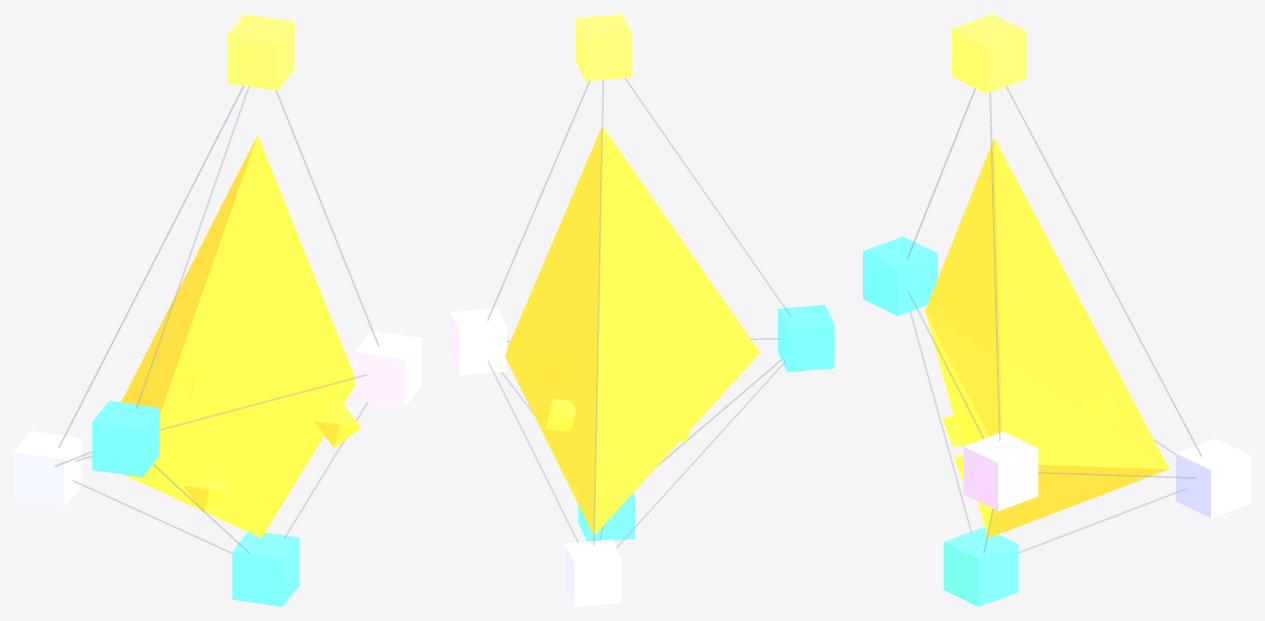
File: cap_em_core_matrix.glb
3 renders of one model, left to right at view 1: azimuth 30°, elevation 25°; view 2: azimuth 150°, elevation 25°; view 3: azimuth 270°, elevation 25°, orthographic. The views are drawn at different scales.
Parts seen in each view (by area): view 1: object 1, node-valuation, node-runway, node-esop, node-founder, node-capital, object 16, object 17, object 9, object 8, object 7; view 2: object 1, node-founder, node-esop, node-runway, node-valuation, node-capital, object 18, object 9, object 8; view 3: object 1, node-founder, node-valuation, node-esop, node-capital, node-runway, object 18, object 9, object 7.
Part boxes in pixels (bbox=[...]): object 1: bbox=[91, 135, 354, 537]; node-valuation: bbox=[354, 330, 421, 407]; node-runway: bbox=[92, 400, 159, 477]; node-esop: bbox=[14, 431, 81, 507]; node-founder: bbox=[227, 14, 294, 90]; node-capital: bbox=[232, 532, 299, 606]; object 16: bbox=[313, 400, 360, 447]; object 17: bbox=[183, 466, 230, 512]; object 9: bbox=[58, 86, 244, 447]; object 8: bbox=[135, 87, 249, 408]; object 7: bbox=[275, 90, 379, 346]; object 1: bbox=[505, 126, 760, 535]; node-founder: bbox=[575, 14, 632, 81]; node-esop: bbox=[565, 539, 621, 606]; node-runway: bbox=[778, 304, 834, 372]; node-valuation: bbox=[450, 308, 506, 375]; node-capital: bbox=[578, 493, 634, 541]; object 18: bbox=[546, 398, 576, 431]; object 9: bbox=[593, 80, 603, 545]; object 8: bbox=[625, 78, 790, 315]; object 1: bbox=[925, 138, 1168, 538]; node-founder: bbox=[951, 14, 1026, 93]; node-valuation: bbox=[963, 431, 1038, 511]; node-esop: bbox=[1176, 438, 1250, 518]; node-capital: bbox=[943, 527, 1018, 606]; node-runway: bbox=[863, 236, 937, 315]; object 18: bbox=[1084, 395, 1121, 427]; object 9: bbox=[1006, 86, 1201, 456]; object 7: bbox=[989, 92, 1000, 440].
Size of what is drawn, in the model's own units: 2.87 by 4.08 by 2.56.
